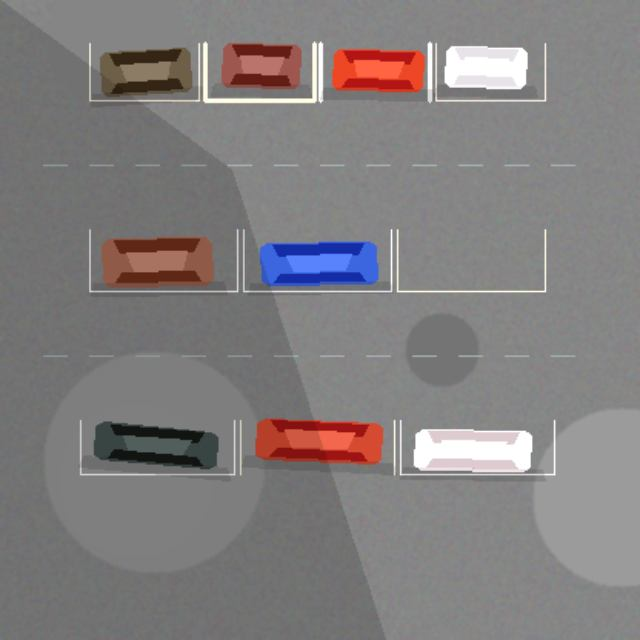space-empty: (397, 229, 545, 291)
space-occupied: (89, 229, 237, 291), (243, 229, 391, 291), (80, 420, 234, 474), (240, 420, 394, 474), (400, 420, 554, 474), (435, 43, 545, 100), (89, 43, 198, 100), (205, 43, 314, 100), (320, 43, 429, 100)
